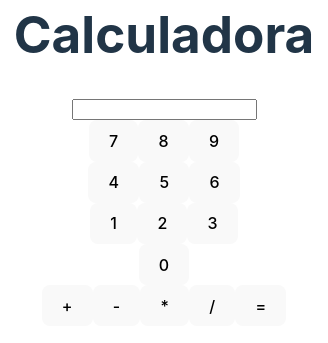
Scenario: Calculadora › it should generate a result
Click the button "1": {"x": 114, "y": 224} [90,203,137,244]
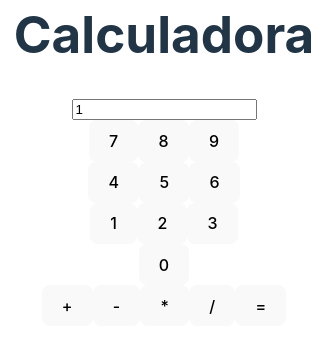
Click the button "+": {"x": 67, "y": 306} [42,285,93,326]
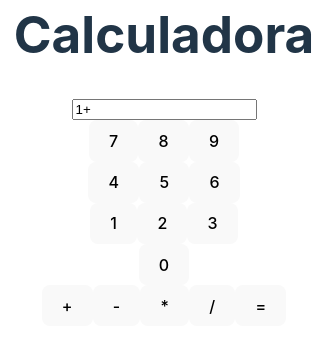
Click the button "2": {"x": 162, "y": 224} [137,203,187,244]
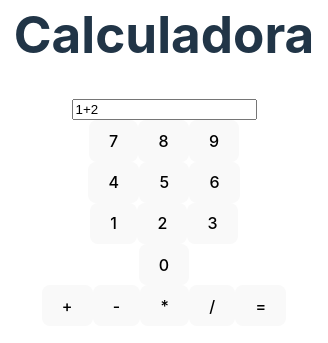
Click the button "=": {"x": 261, "y": 306} [235,285,286,326]
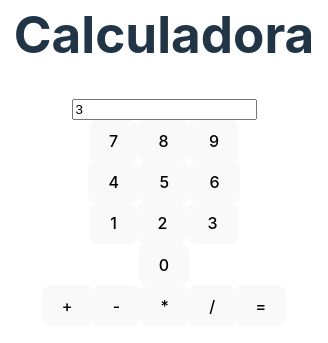
Expected: the field holds "3", [72,100,256,120]
